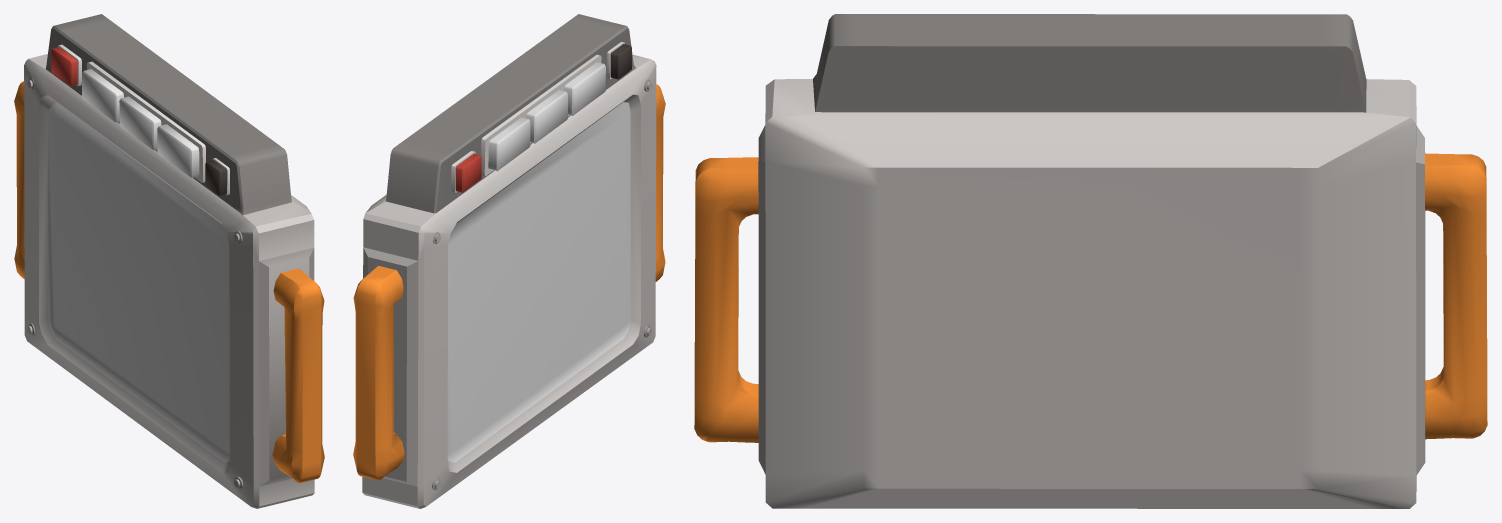
File: TabletTopScreen_V5.fbx
3 views of the same model, side by side, from view 1: azimuth 30°, elevation 25°; view 2: azimuth 150°, elevation 25°; view 3: azimuth 270°, elevation 25° (orthographic). The views are drawn at different scales.
Visible parts, largest first — view 1: Tablet_TopScreen, Tablet_GameB, Tablet_LabB, Tablet_SandboxB, Tablet_ResetB, Tablet_SettingsB; view 2: Tablet_TopScreen, Tablet_SandboxB, Tablet_LabB, Tablet_GameB, Tablet_ResetB, Tablet_SettingsB; view 3: Tablet_TopScreen.
Boxes of the visible parts, x1,y1,x2,y2 form: Tablet_TopScreen: (14,14,324,508); Tablet_GameB: (157,124,199,177); Tablet_LabB: (119,96,161,150); Tablet_SandboxB: (82,69,123,122); Tablet_ResetB: (51,47,77,86); Tablet_SettingsB: (205,160,226,195); Tablet_TopScreen: (353,14,665,508); Tablet_SandboxB: (488,117,530,171); Tablet_LabB: (526,90,567,143); Tablet_GameB: (564,62,605,115); Tablet_ResetB: (455,153,481,192); Tablet_SettingsB: (610,44,631,79); Tablet_TopScreen: (694,14,1487,508).
Size of the model in its own units: 0.1141 by 0.3796 by 0.5933.
